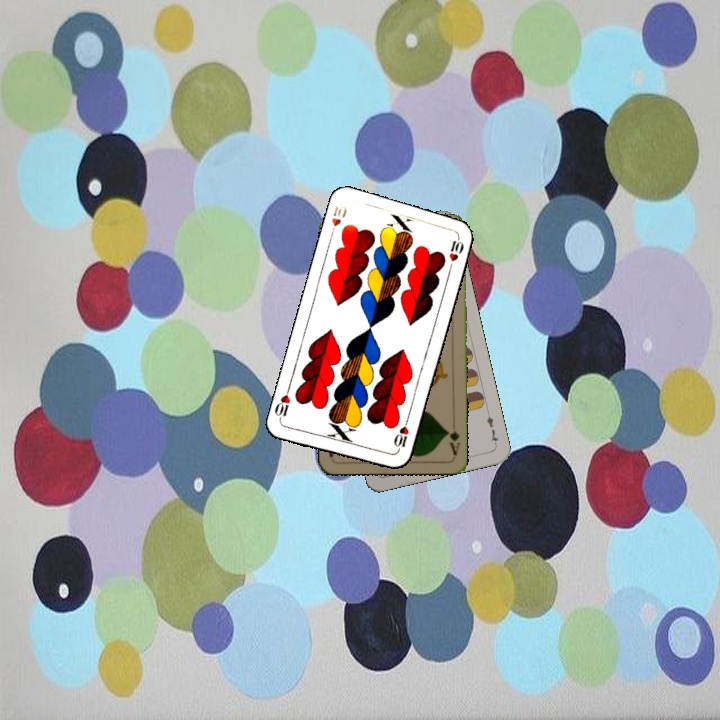E7: (482, 408, 501, 448)
GA: (443, 417, 462, 458)
H10: (326, 202, 349, 240), (390, 415, 411, 455)
